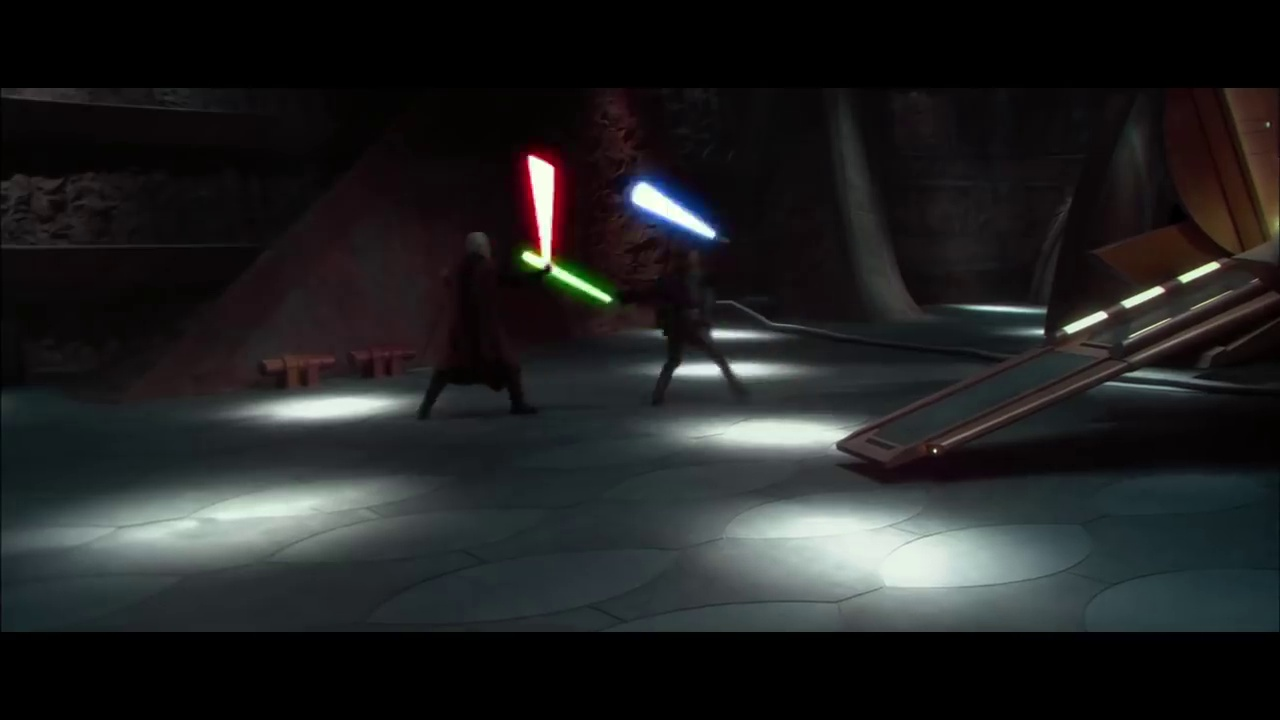lightsaber: (626, 180, 736, 248), (521, 250, 621, 308), (529, 152, 549, 273)
